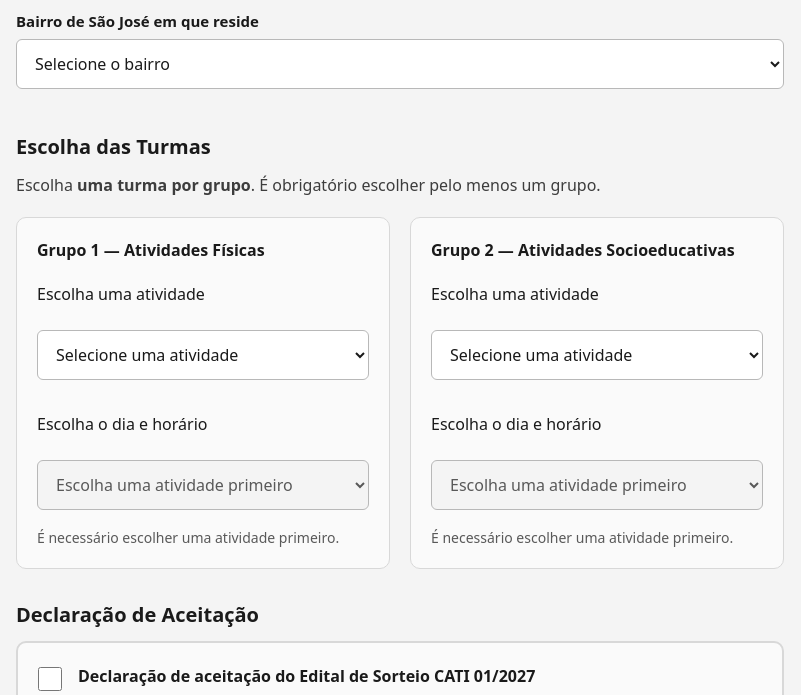
Test: RegisterPage — seleção dinâmica de atividade e turma › Grupo 2: selecionar Teatro mostra somente turmas de Teatro
(page scrolled)
Select "Teatro" in the dropdown labelled "Grupo 2 — Atividades Socioeducativas Escolha uma atividade": x=597, y=354 431,330 -> 763,380
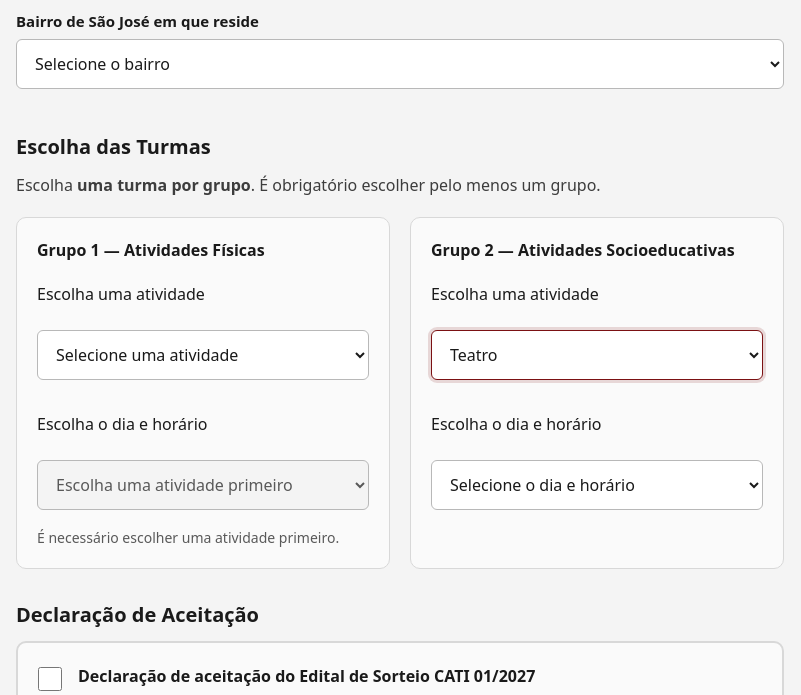
Expected: the dropdown labelled "Grupo 2 — Atividades Socioeducativas Escolha o dia e horário" is enabled, 431,460 -> 763,510
